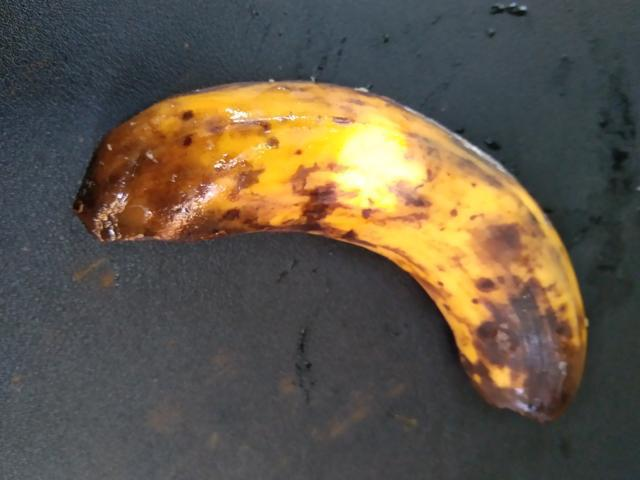rotten: (86, 62, 600, 438)
